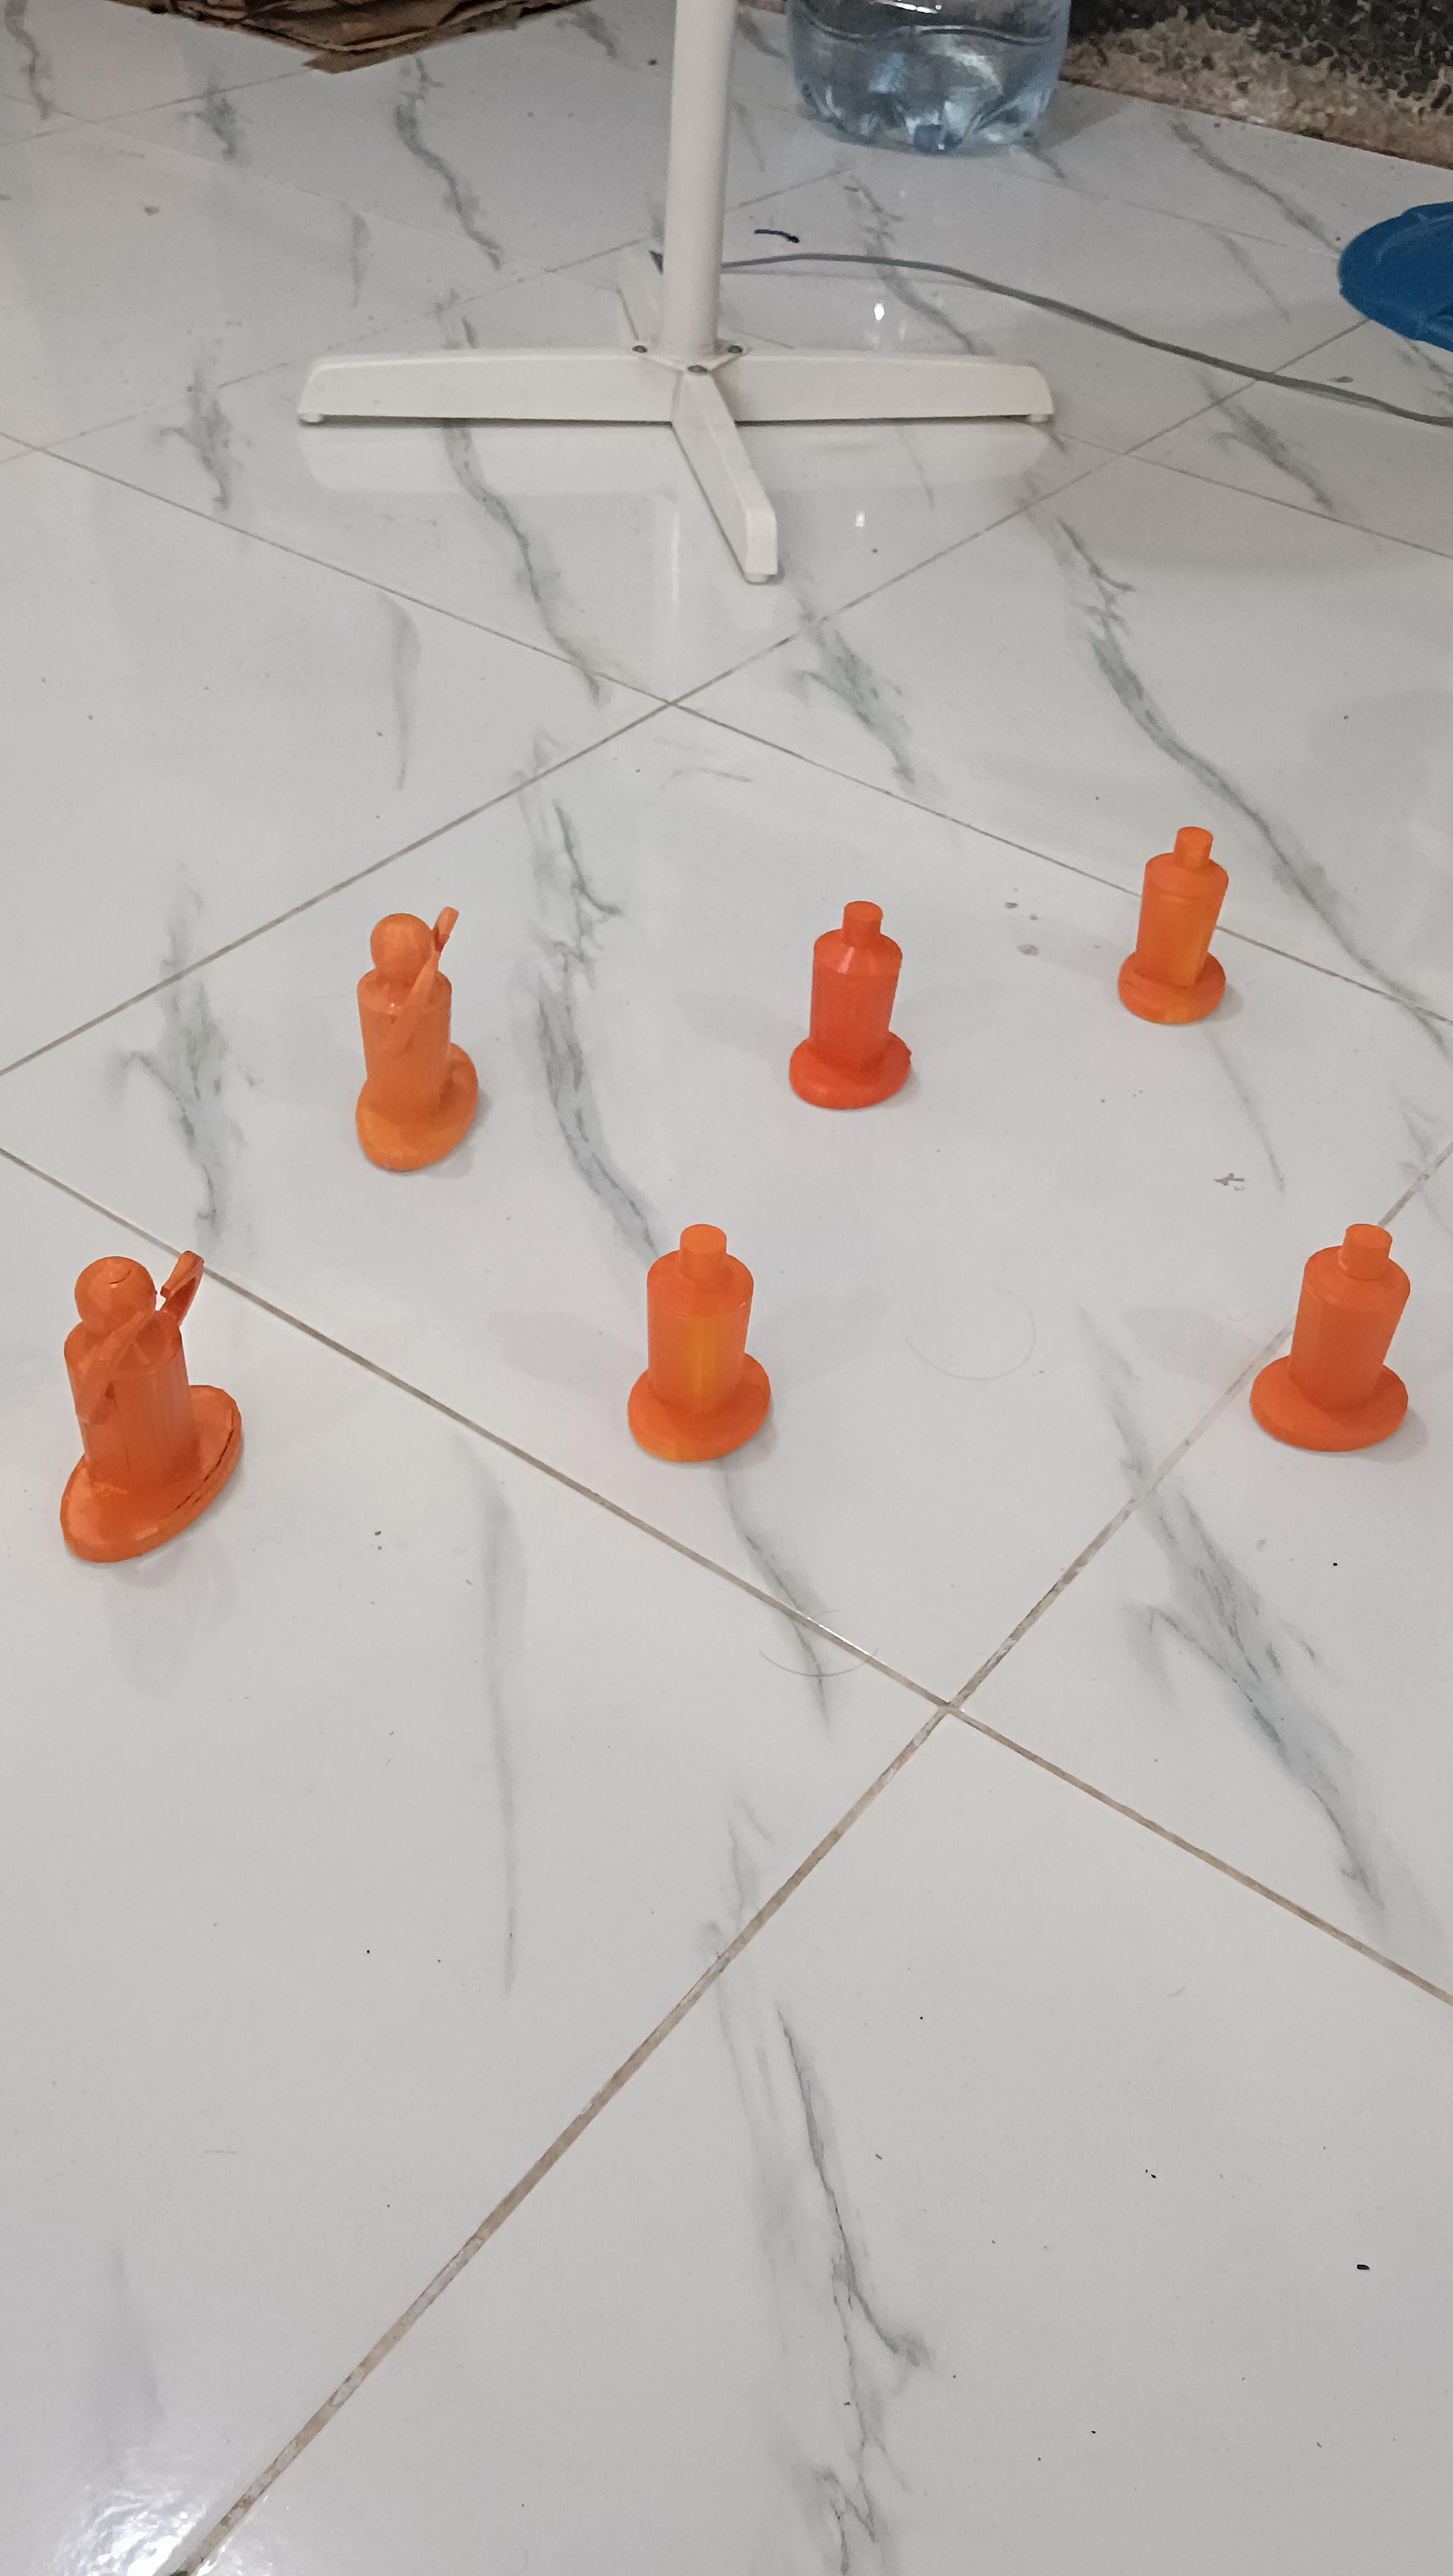dummy: (610, 1203, 788, 1489), (1249, 1203, 1416, 1483), (774, 883, 929, 1134), (1108, 799, 1241, 1042)
real_person: (31, 1231, 255, 1587), (306, 891, 521, 1187)
